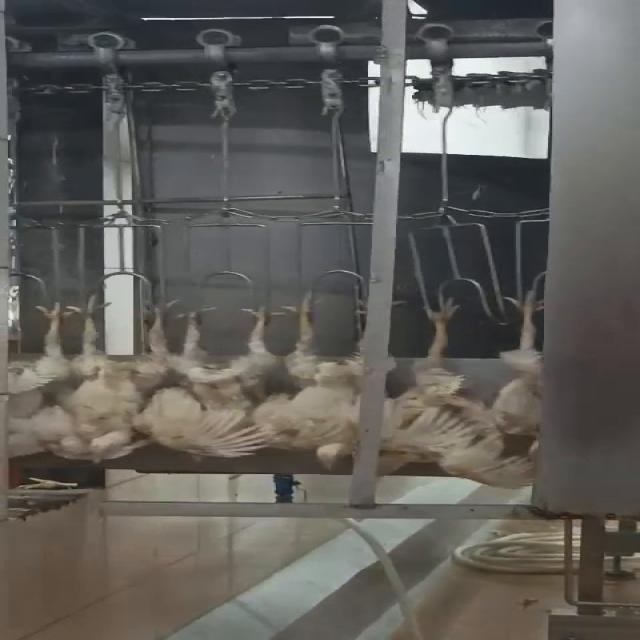chicken: (372, 301, 538, 487), (57, 294, 200, 466), (165, 296, 291, 464), (263, 294, 369, 473), (0, 296, 96, 470), (491, 283, 565, 445)
